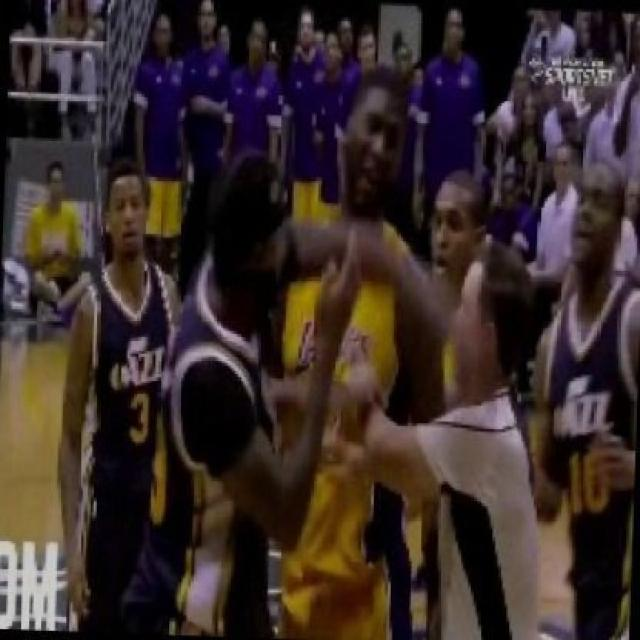fight: (155, 80, 540, 638)
non-fight: (511, 143, 638, 639), (61, 148, 188, 637)
